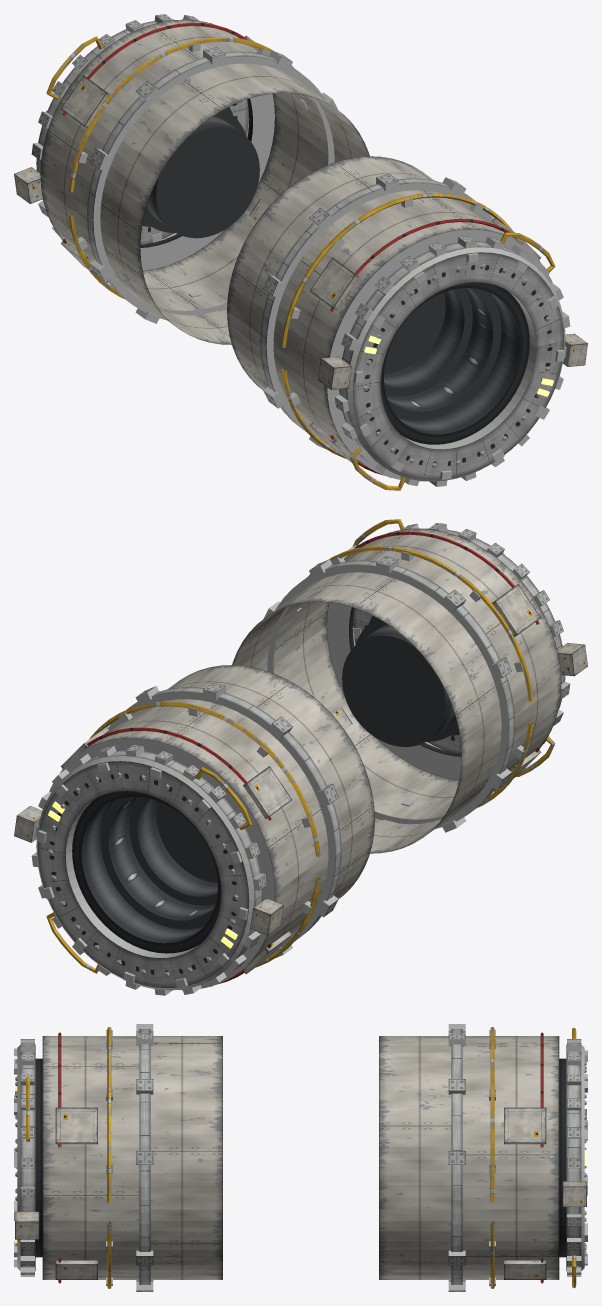
Rendered from node_ports.fbx.
3 renders of one model, top to bottom at view 1: azimuth 30°, elevation 25°; view 2: azimuth 150°, elevation 25°; view 3: azimuth 270°, elevation 25°, orthographic. The views are drawn at different scales.
Visible parts, largest first — view 1: node_ports; view 2: node_ports; view 3: node_ports.
Boxes of the visible parts, bbox=[...] form: node_ports: bbox=[14, 14, 587, 490]; node_ports: bbox=[14, 519, 587, 995]; node_ports: bbox=[14, 1024, 587, 1291].
Size of the model in its own units: 1.88 by 1.89 by 4.05.
1 material, 1 textured.
